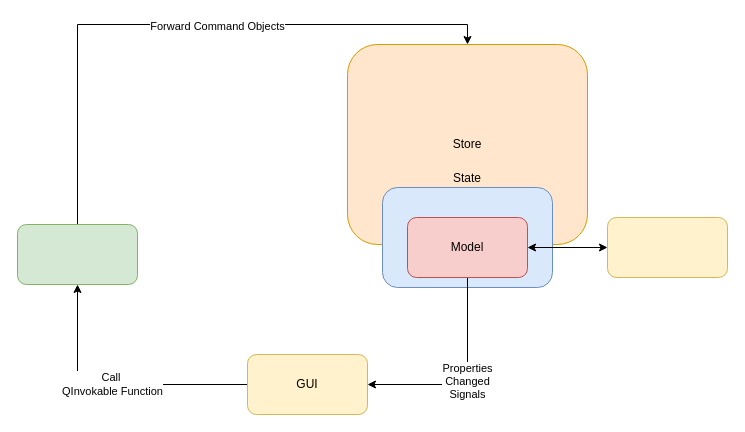
This 745x432 diagram has some shape labels left out. The shapes that lost their labels are listed below. From the top down, each one's centre as x and y in pixels, then its label:
At (x=77, y=254): "Event Handler".
At (x=667, y=247): "Hardware".
